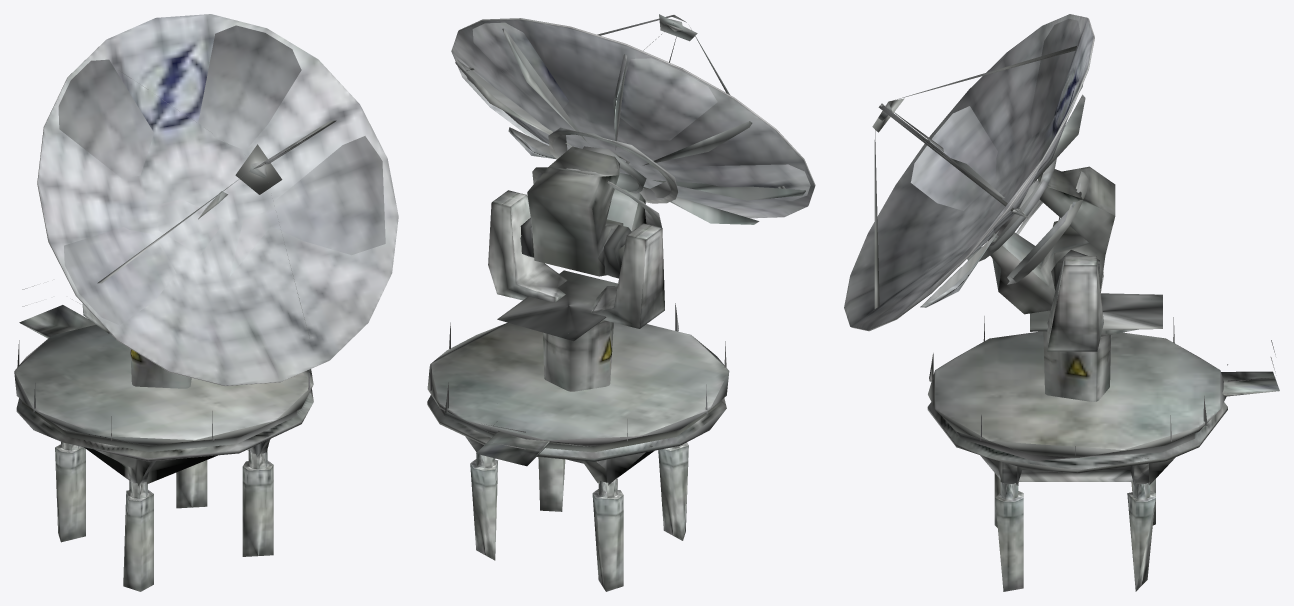
Rendered from sat-dish.zfix-v1.lod1.glb.
3 renders of one model, left to right at view 1: azimuth 30°, elevation 25°; view 2: azimuth 150°, elevation 25°; view 3: azimuth 270°, elevation 25°, orthographic.
Parts seen in each view (by area): view 1: Base_Material_0; view 2: Base_Material_0; view 3: Base_Material_0.
Part boxes in pixels (box(x1,y1,x2,y2)): Base_Material_0: box(14, 14, 398, 591); Base_Material_0: box(427, 14, 815, 591); Base_Material_0: box(844, 14, 1279, 591).
Size of the model in its own units: 5.41 by 7.97 by 6.06.
1 material, 1 textured.
